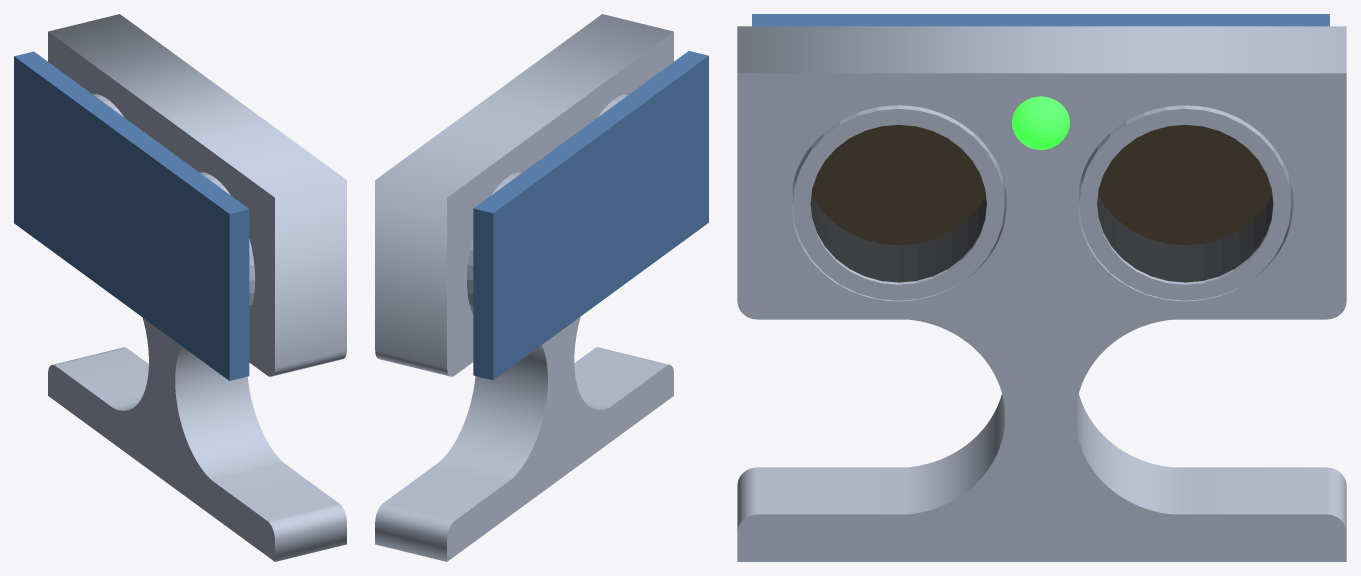
The model's file is arlo_sensor.dae.
3 views of the same model, side by side, from view 1: azimuth 30°, elevation 25°; view 2: azimuth 150°, elevation 25°; view 3: azimuth 270°, elevation 25° (orthographic). The views are drawn at different scales.
Visible parts, largest first — view 1: soporte, circuito, exterior_bocina; view 2: soporte, circuito, exterior_bocina.001; view 3: soporte, malla_negra.001, malla_negra, exterior_bocina, exterior_bocina.001, fondo_bocina, fondo_bocina.001, circuito, LED.
Part boxes in pixels (<box>): soporte: <box>48,14,346,561</box>; circuito: <box>14,51,249,380</box>; exterior_bocina: <box>201,172,255,312</box>; soporte: <box>375,14,673,561</box>; circuito: <box>473,51,708,380</box>; exterior_bocina.001: <box>467,172,521,314</box>; soporte: <box>737,26,1346,561</box>; malla_negra.001: <box>1097,124,1273,282</box>; malla_negra: <box>810,124,986,282</box>; exterior_bocina: <box>792,105,1004,300</box>; exterior_bocina.001: <box>1079,105,1291,300</box>; fondo_bocina: <box>812,125,985,244</box>; fondo_bocina.001: <box>1098,125,1271,244</box>; circuito: <box>752,14,1329,26</box>; LED: <box>1012,96,1069,149</box>.
Bounding box in the file's own units: 2.24 × 6.9 × 6.11.
